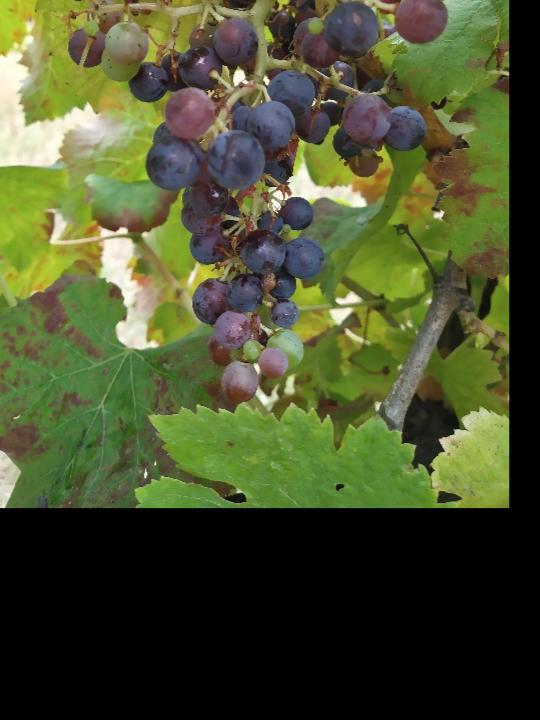grape: (65, 0, 449, 403)
